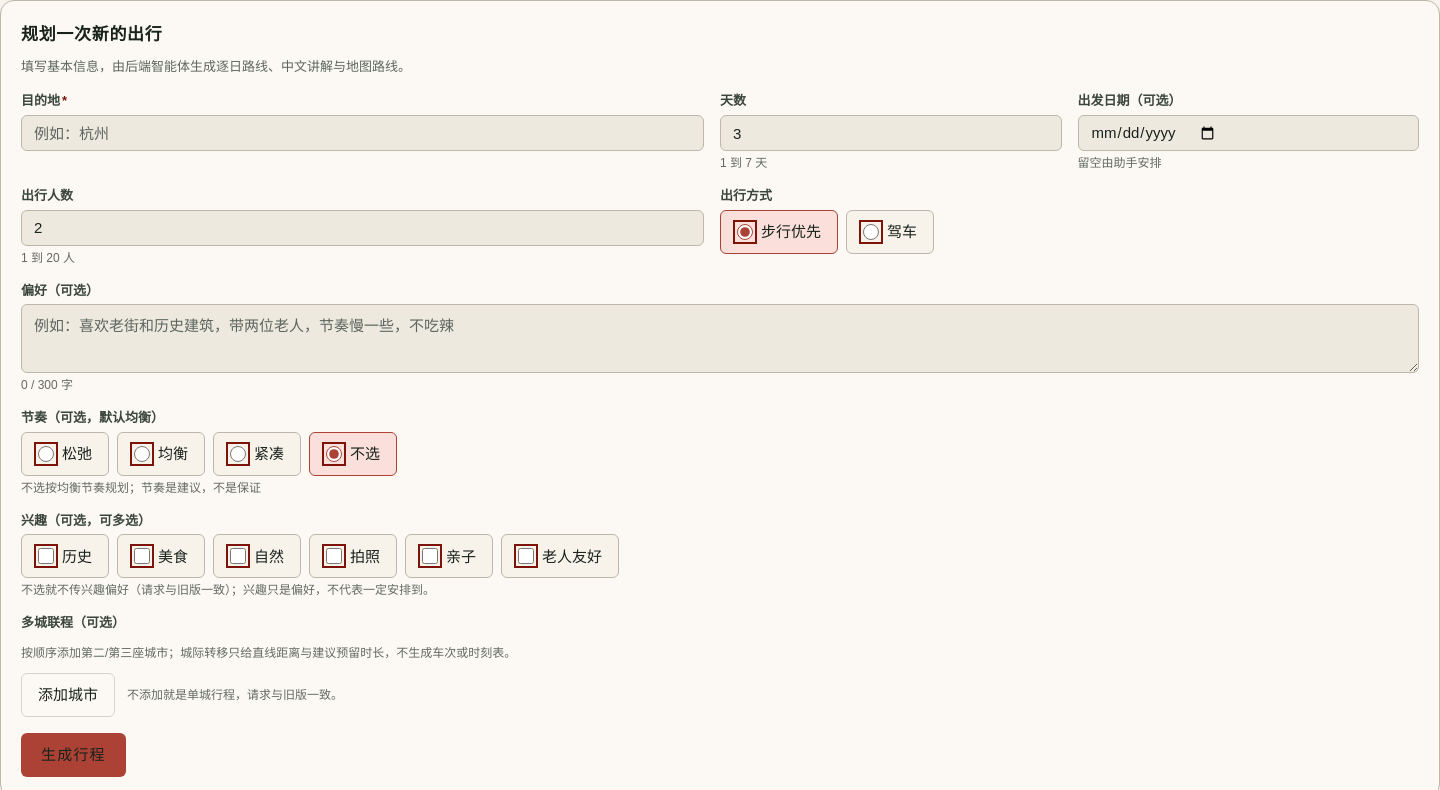
PlanForm 多城联程（七期 S1） › 移除城市后回到单城请求 shape
Later steps or results of the test are not shown.
Type "杭州" into the field labelled "目的地*" at (362, 133), box [21,115,704,151]
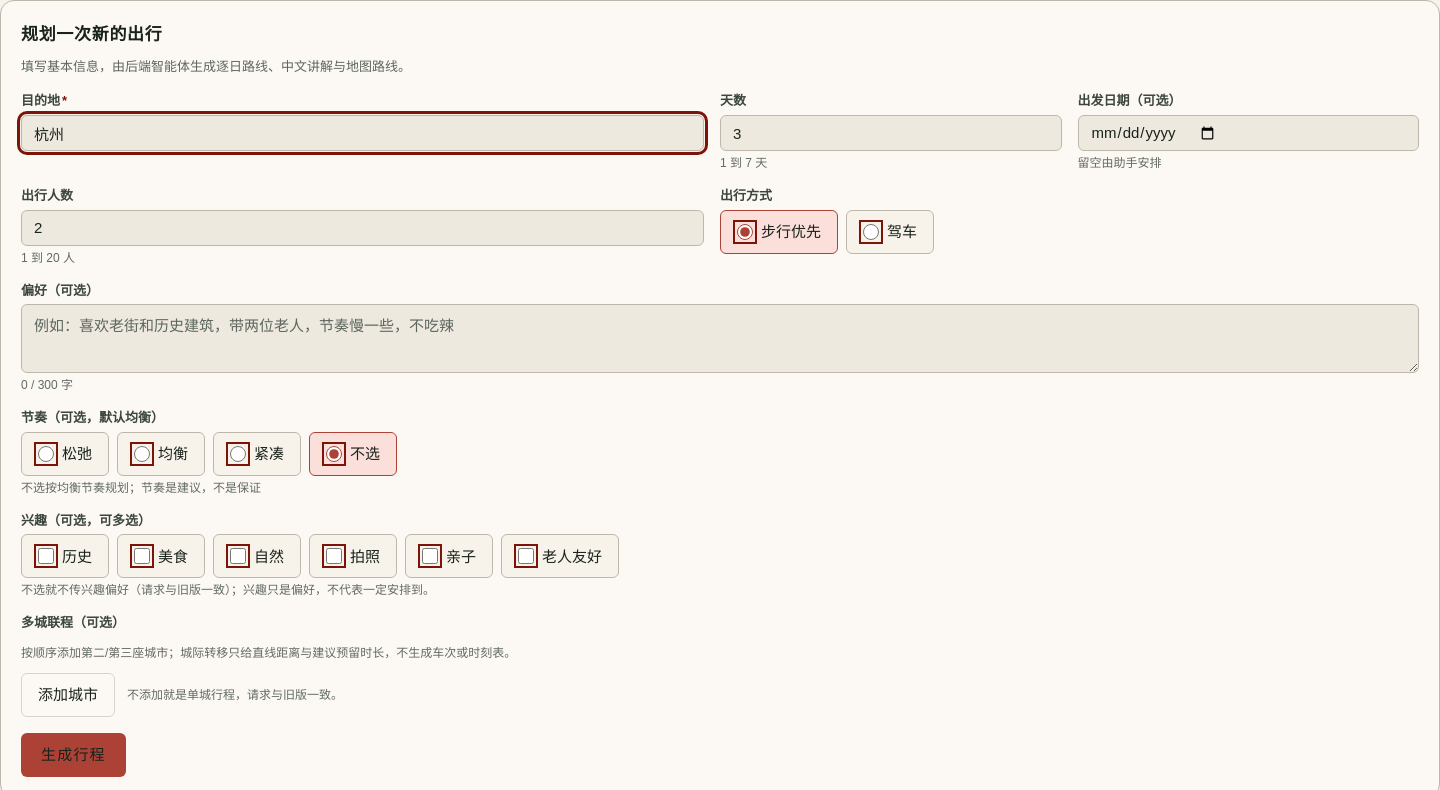
Click the button "添加城市" at (68, 695), box [21,673,115,717]
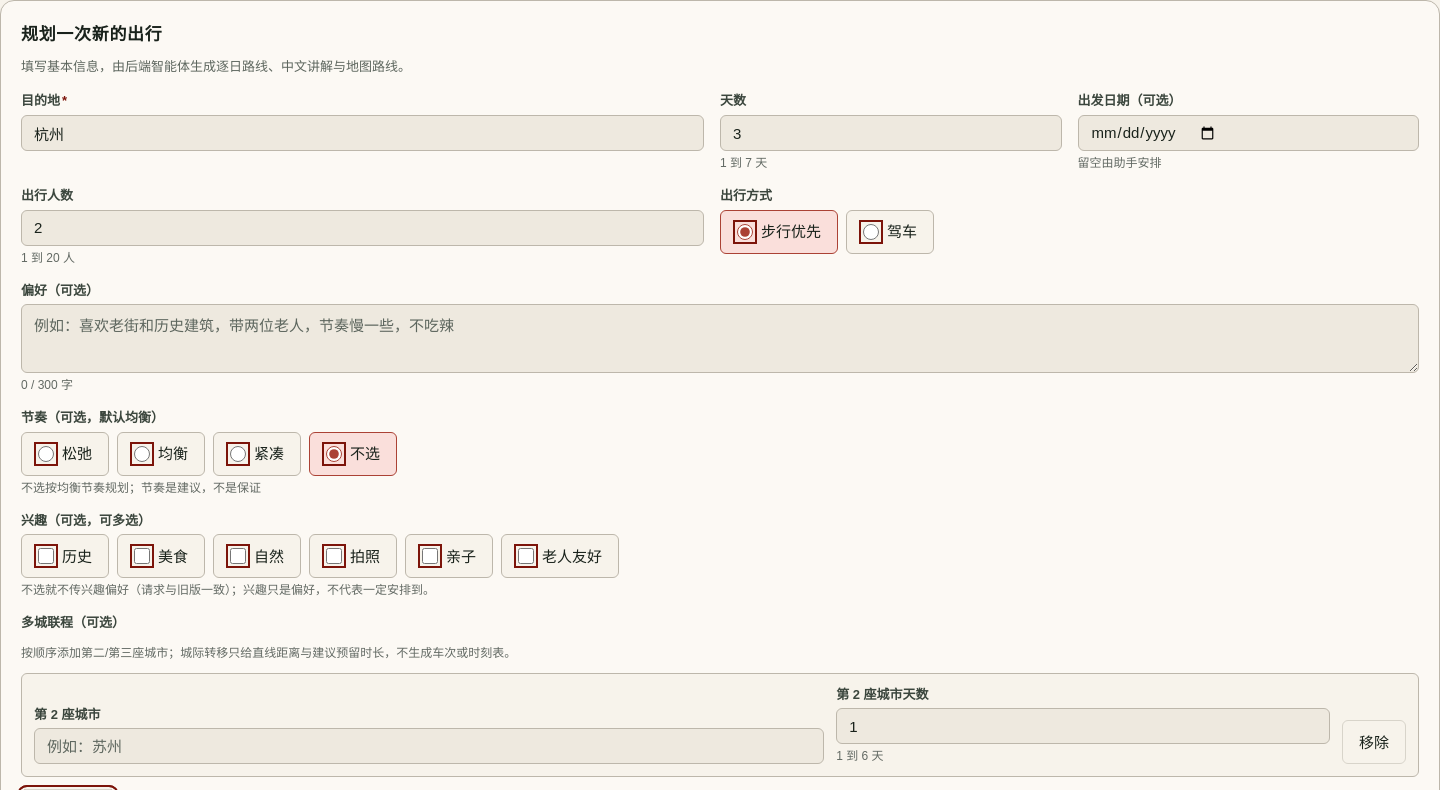
Type "苏州" into the field labelled "第 2 座城市" at (429, 746), box [34,728,824,764]
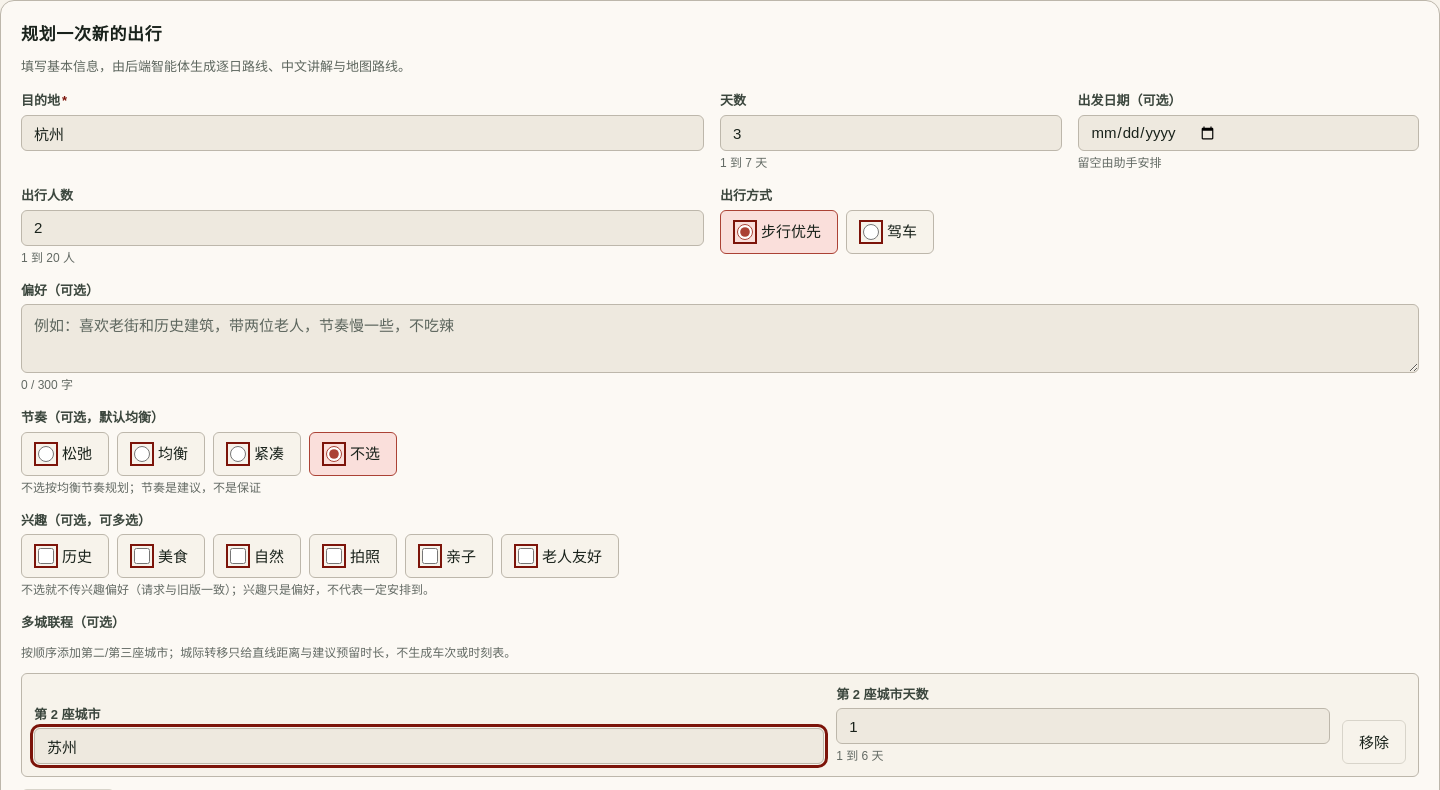
Click the button with aria-label "移除第 2 座城市" at (1374, 742), box [1342,720,1406,764]
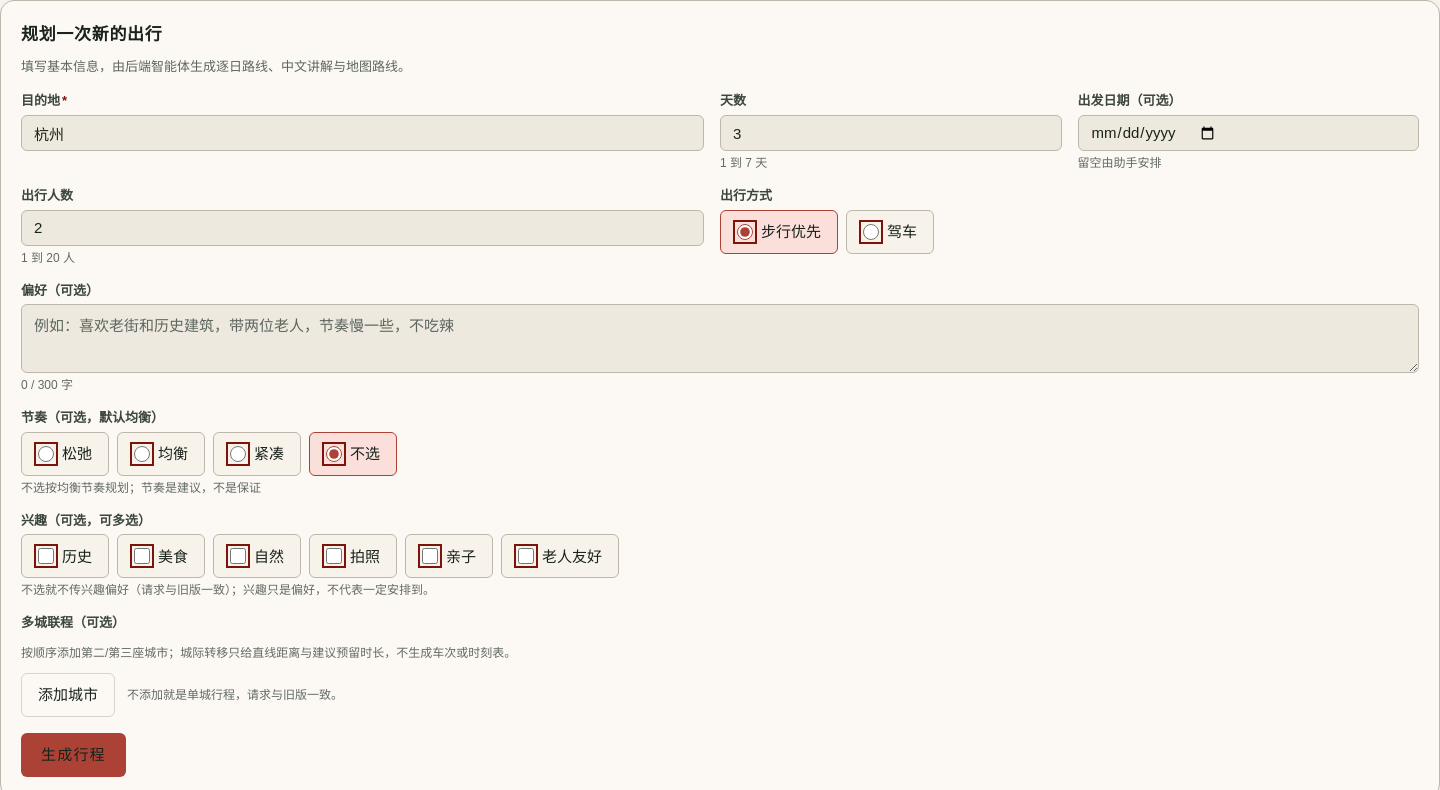
Expected: the label labelled "第 2 座城市" is gone
